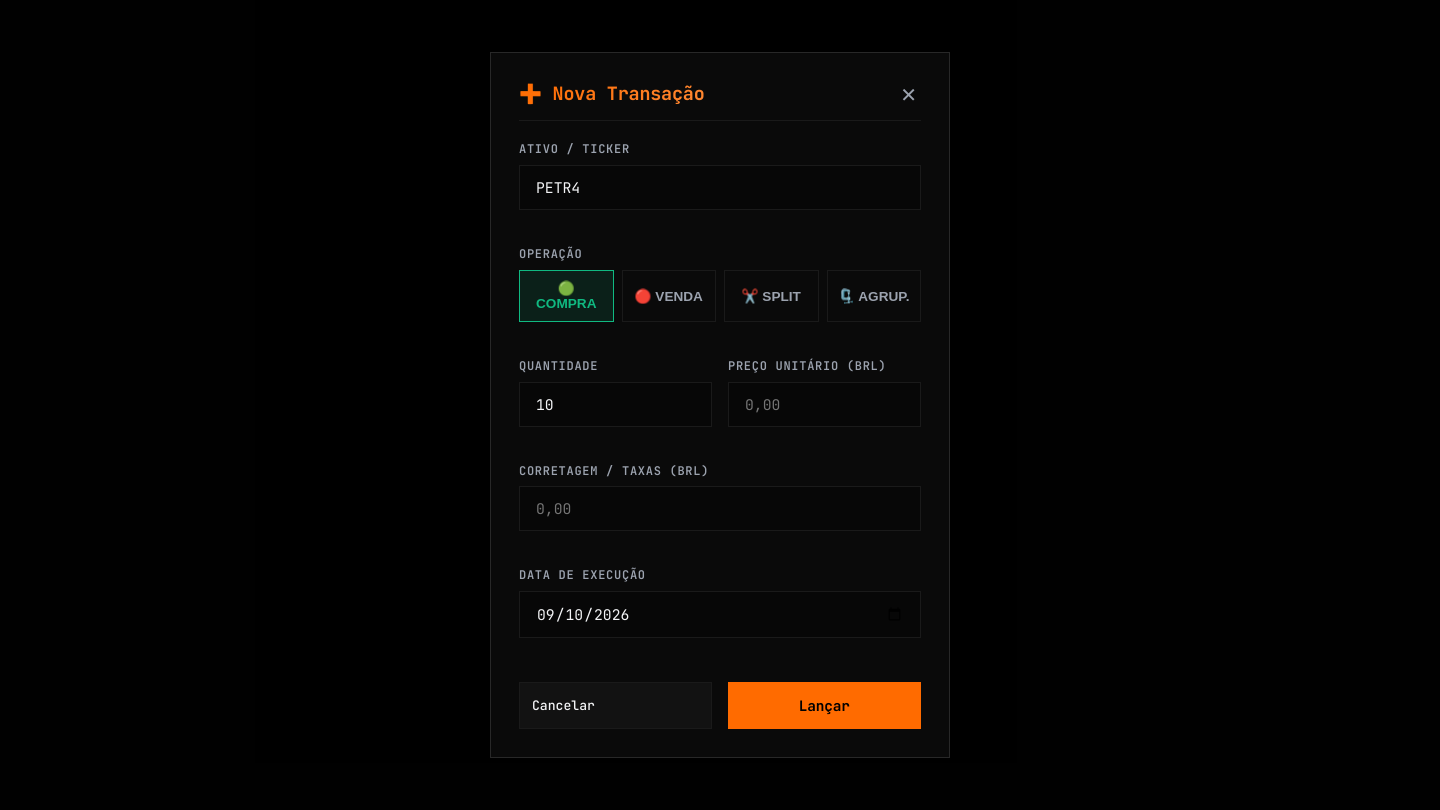
Scenario: TransactionModal › switches transaction types: SELL, SPLIT, REVERSE_SPLIT, and BUY
Note: Click VENDA
What coordinates should you click on to do the following:
click the button "🔴 VENDA"
I would click on:
 (669, 296)
Its box is 622,270 -> 716,322.
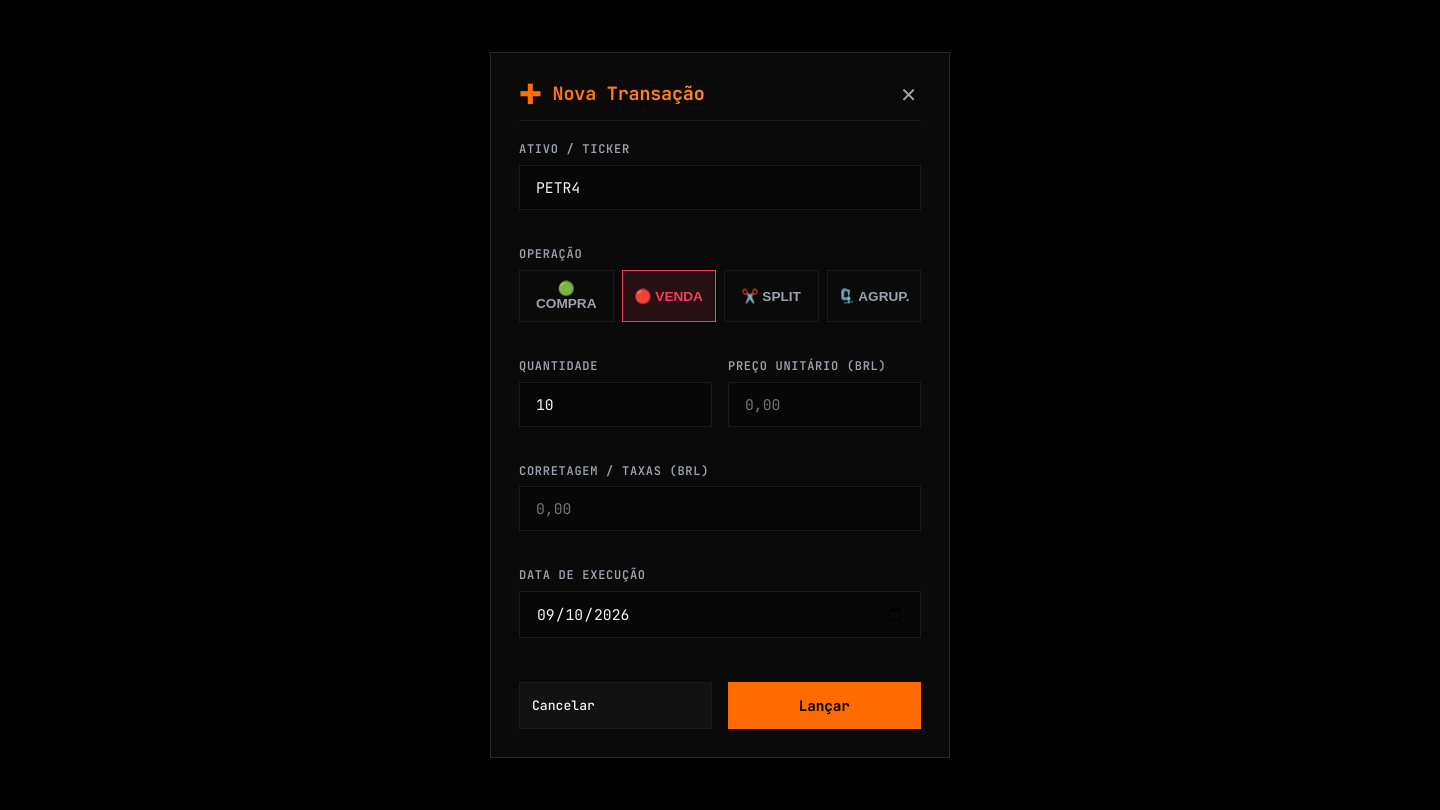
Note: Click SPLIT
What coordinates should you click on to do the following:
click the button "✂️ SPLIT"
I would click on:
 (771, 296)
Its box is 724,270 -> 818,322.
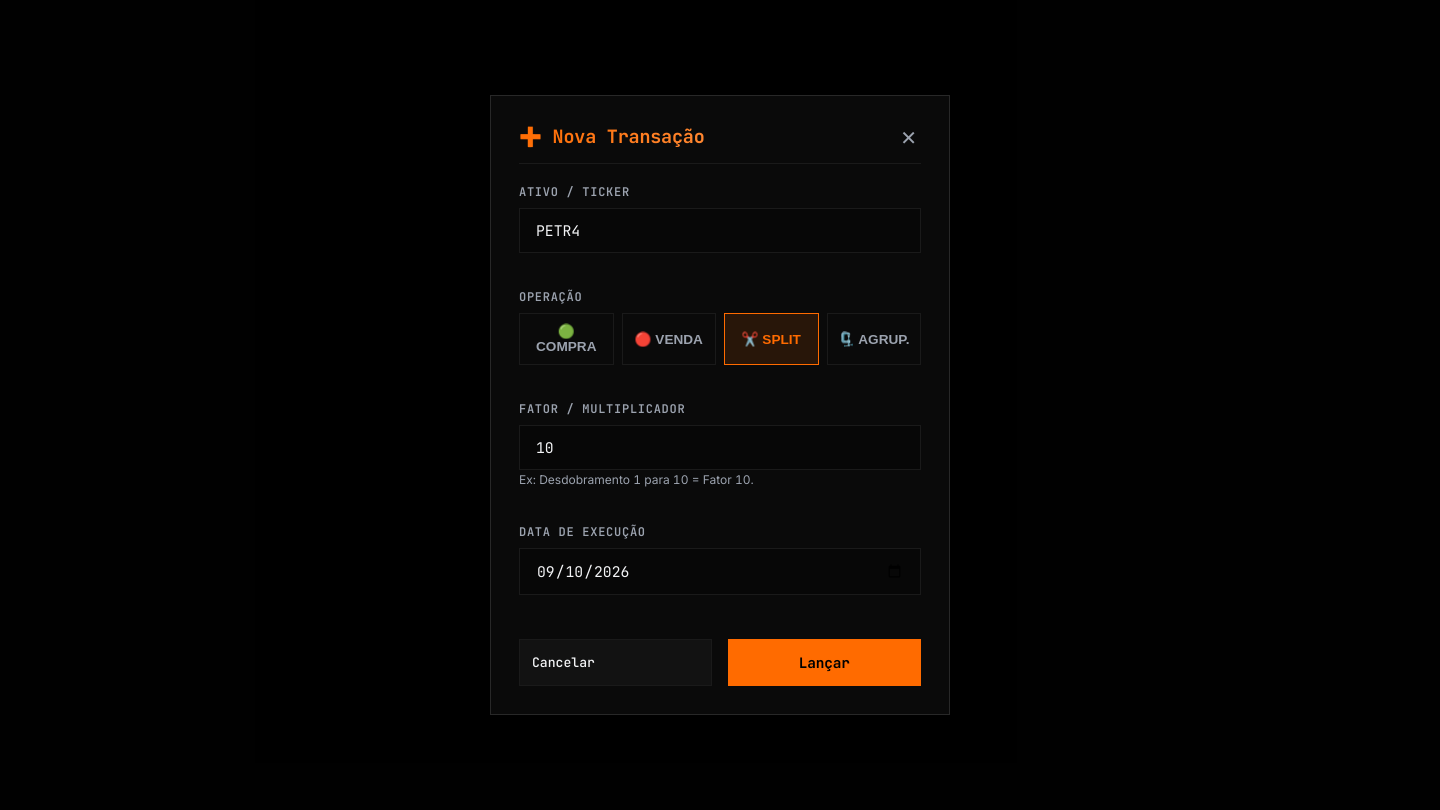
Expected: the text "Fator / Multiplicador" is shown, 519,401 -> 685,417
Expected: the text "Ex: Desdobramento 1 para 10 = Fator 10." is shown, 519,472 -> 754,486
Note: Click REVERSE_SPLIT
What coordinates should you click on to do the following:
click the button "🗜️ AGRUP."
I would click on:
 (874, 339)
Its box is 826,312 -> 921,365.
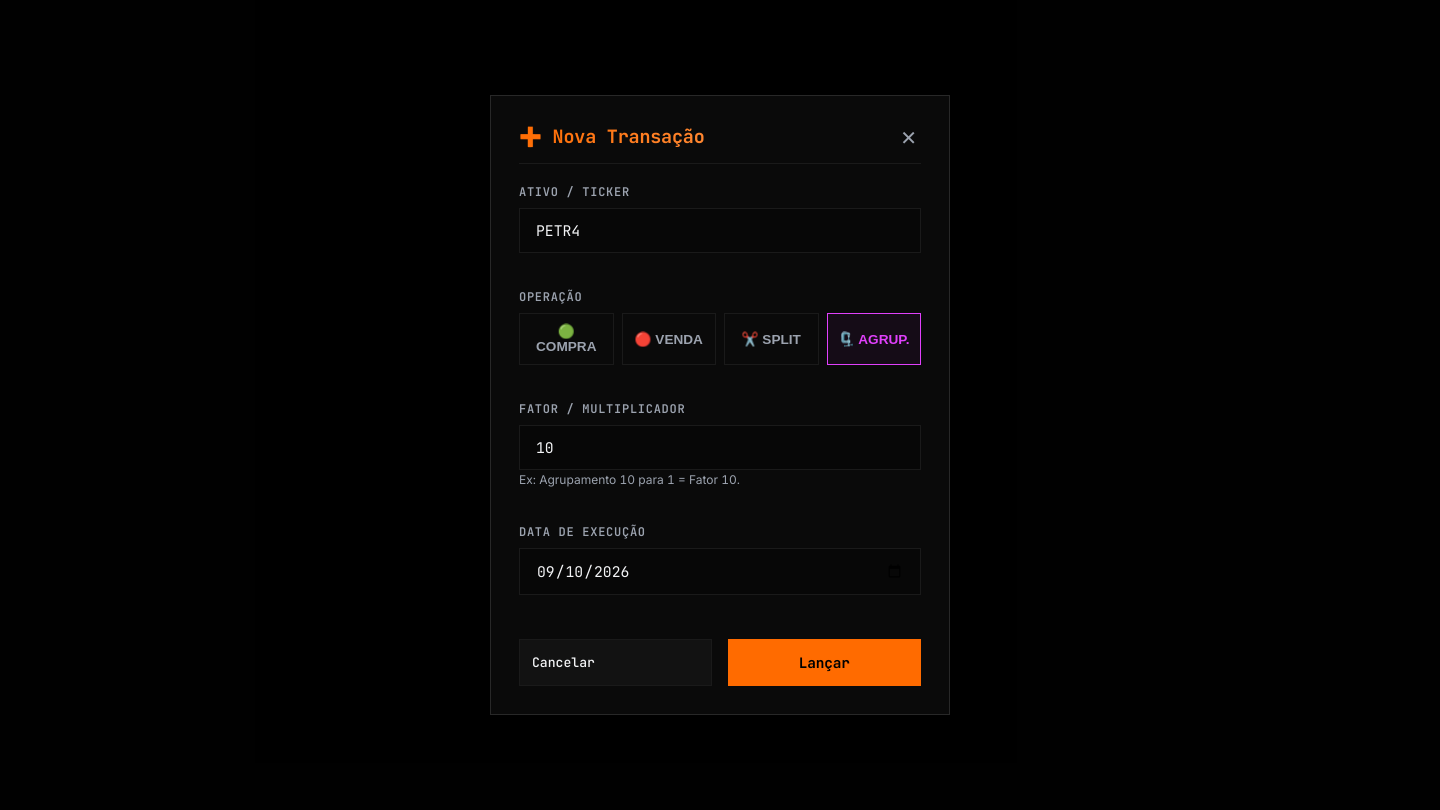
Expected: the text "Ex: Agrupamento 10 para 1 = Fator 10." is shown, 519,472 -> 740,486
Note: Click COMPRA back
What coordinates should you click on to do the following:
click the button "🟢 COMPRA"
I would click on:
 (566, 339)
Its box is 519,312 -> 614,365.
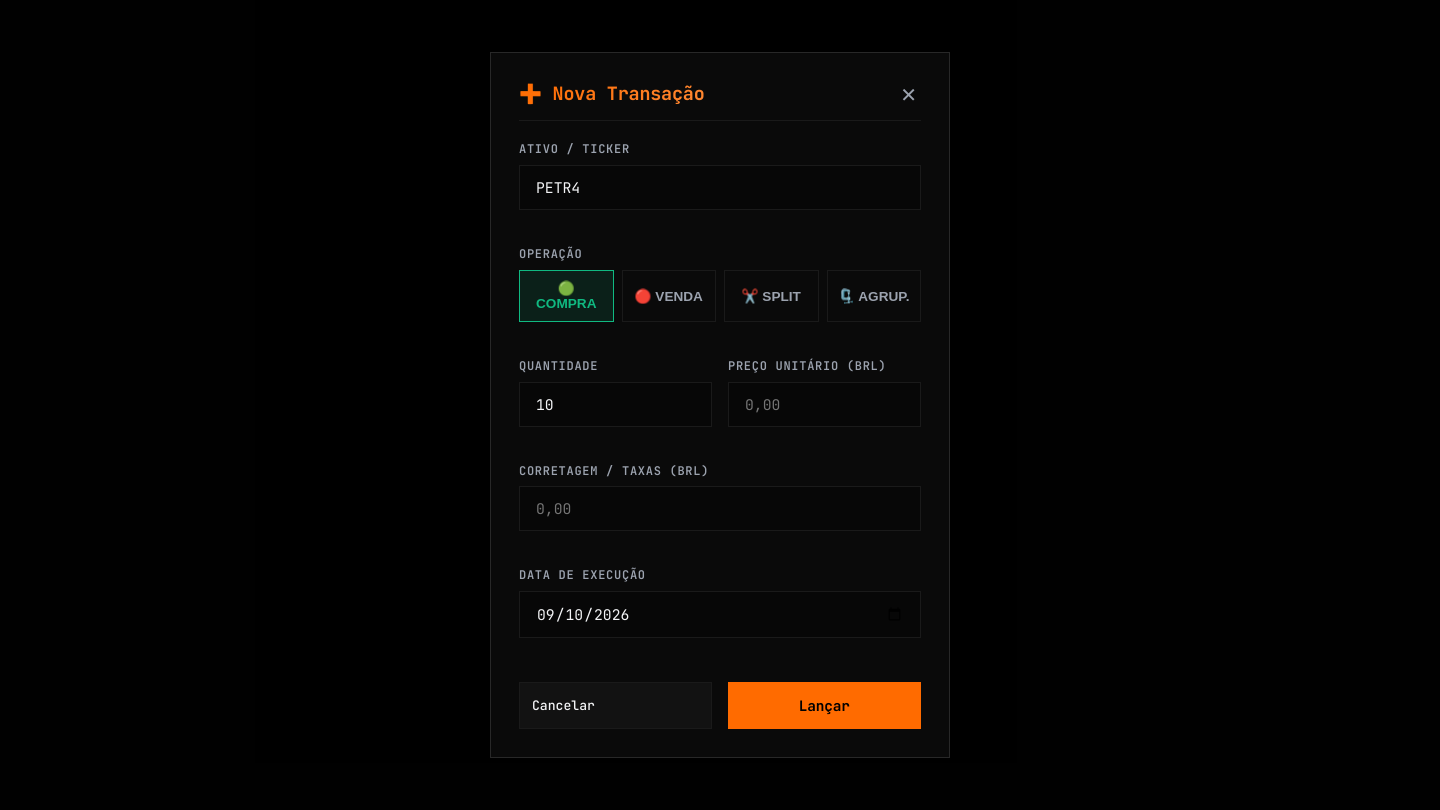
Expected: the text "Fator / Multiplicador" is gone
